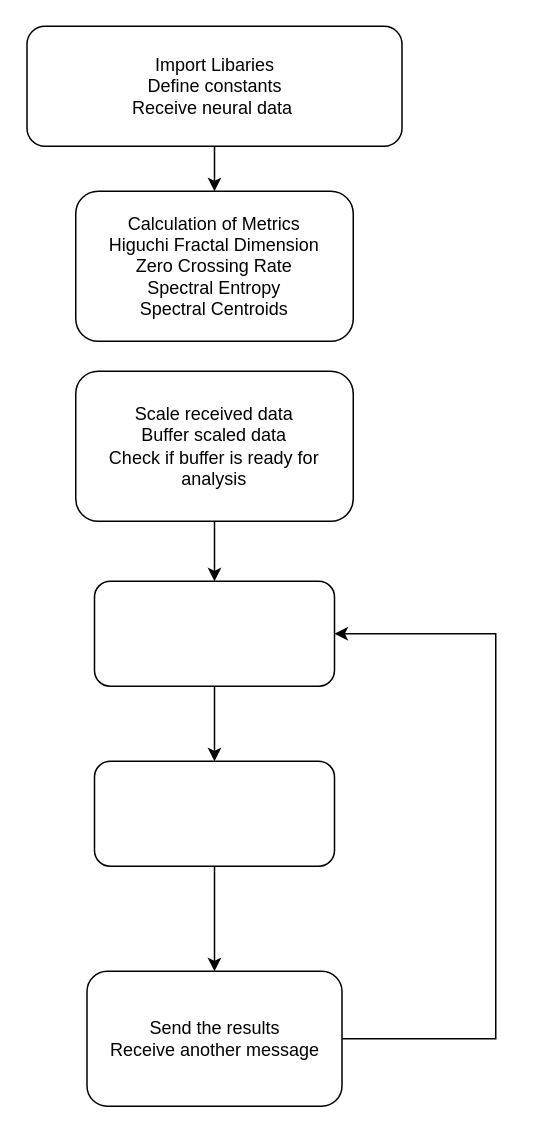
This 534x1133 diagram has some shape labels left out. Here are the shapes that lost their labels. From the top down, the centre of each, then its label:
At point 213,633: "Main function".
At point 213,813: "Analyze signals Serialize analysis results".
